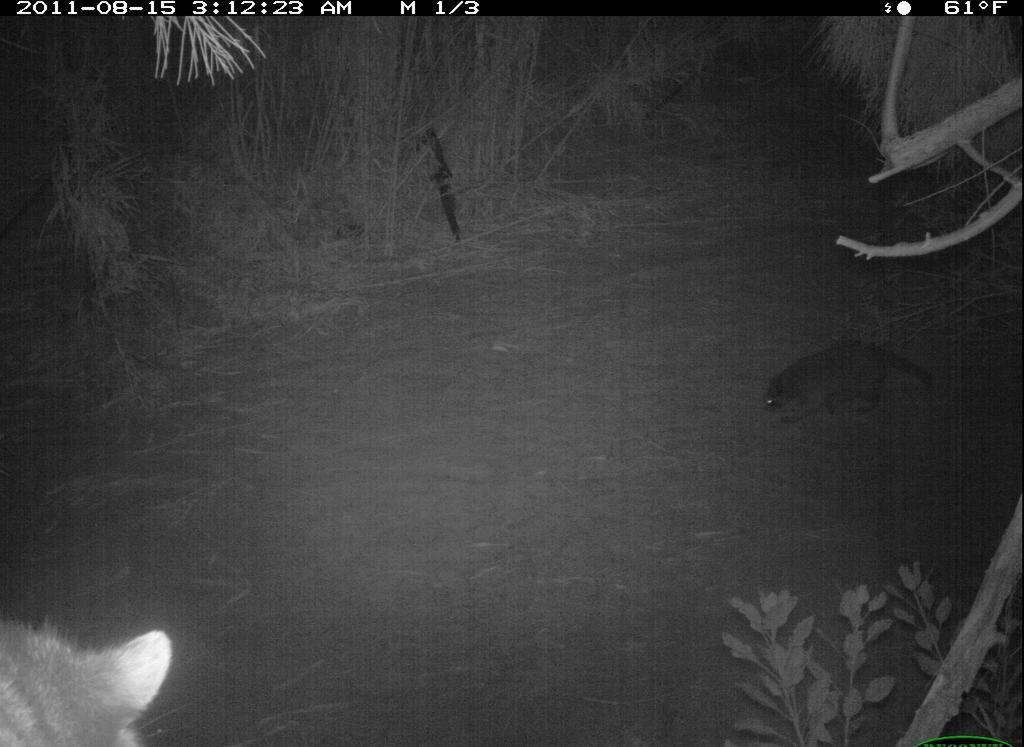raccoon: (3, 591, 177, 747), (748, 324, 945, 436)
